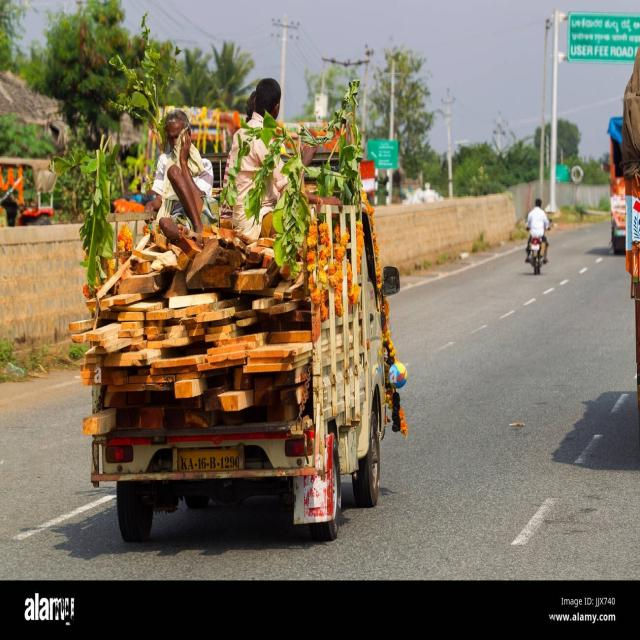motorcycle: (525, 199, 549, 274)
truck: (70, 87, 408, 542)
